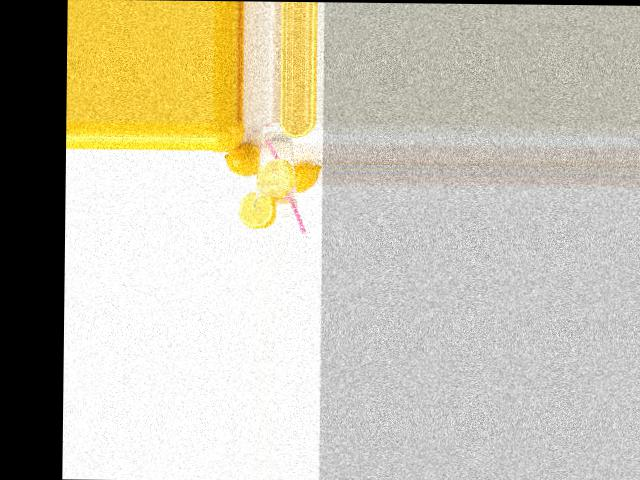lemon: (285, 158, 320, 193)
